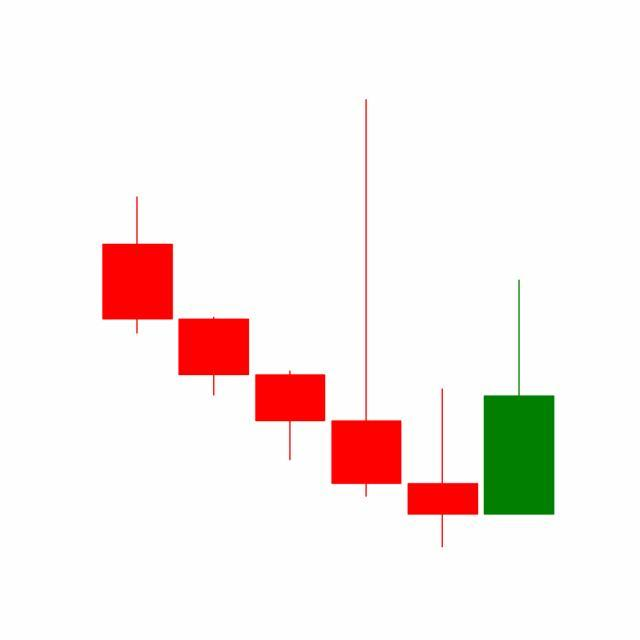Spinning Top: (404, 387, 482, 550)
